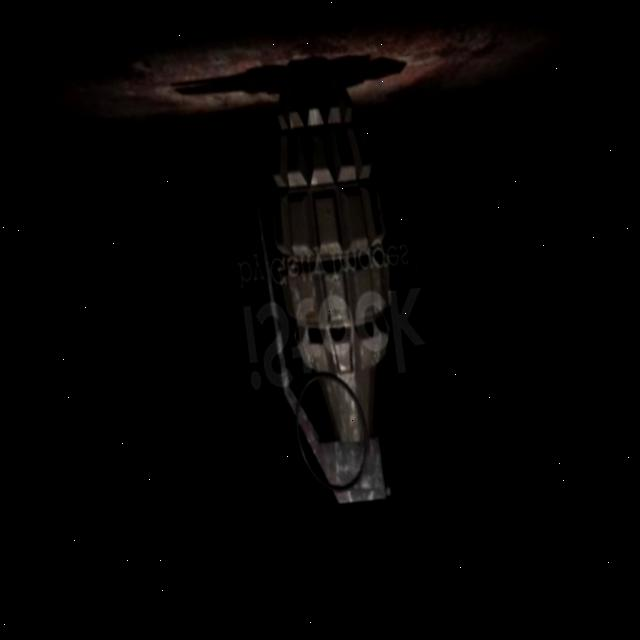grenade: (163, 43, 491, 546)
